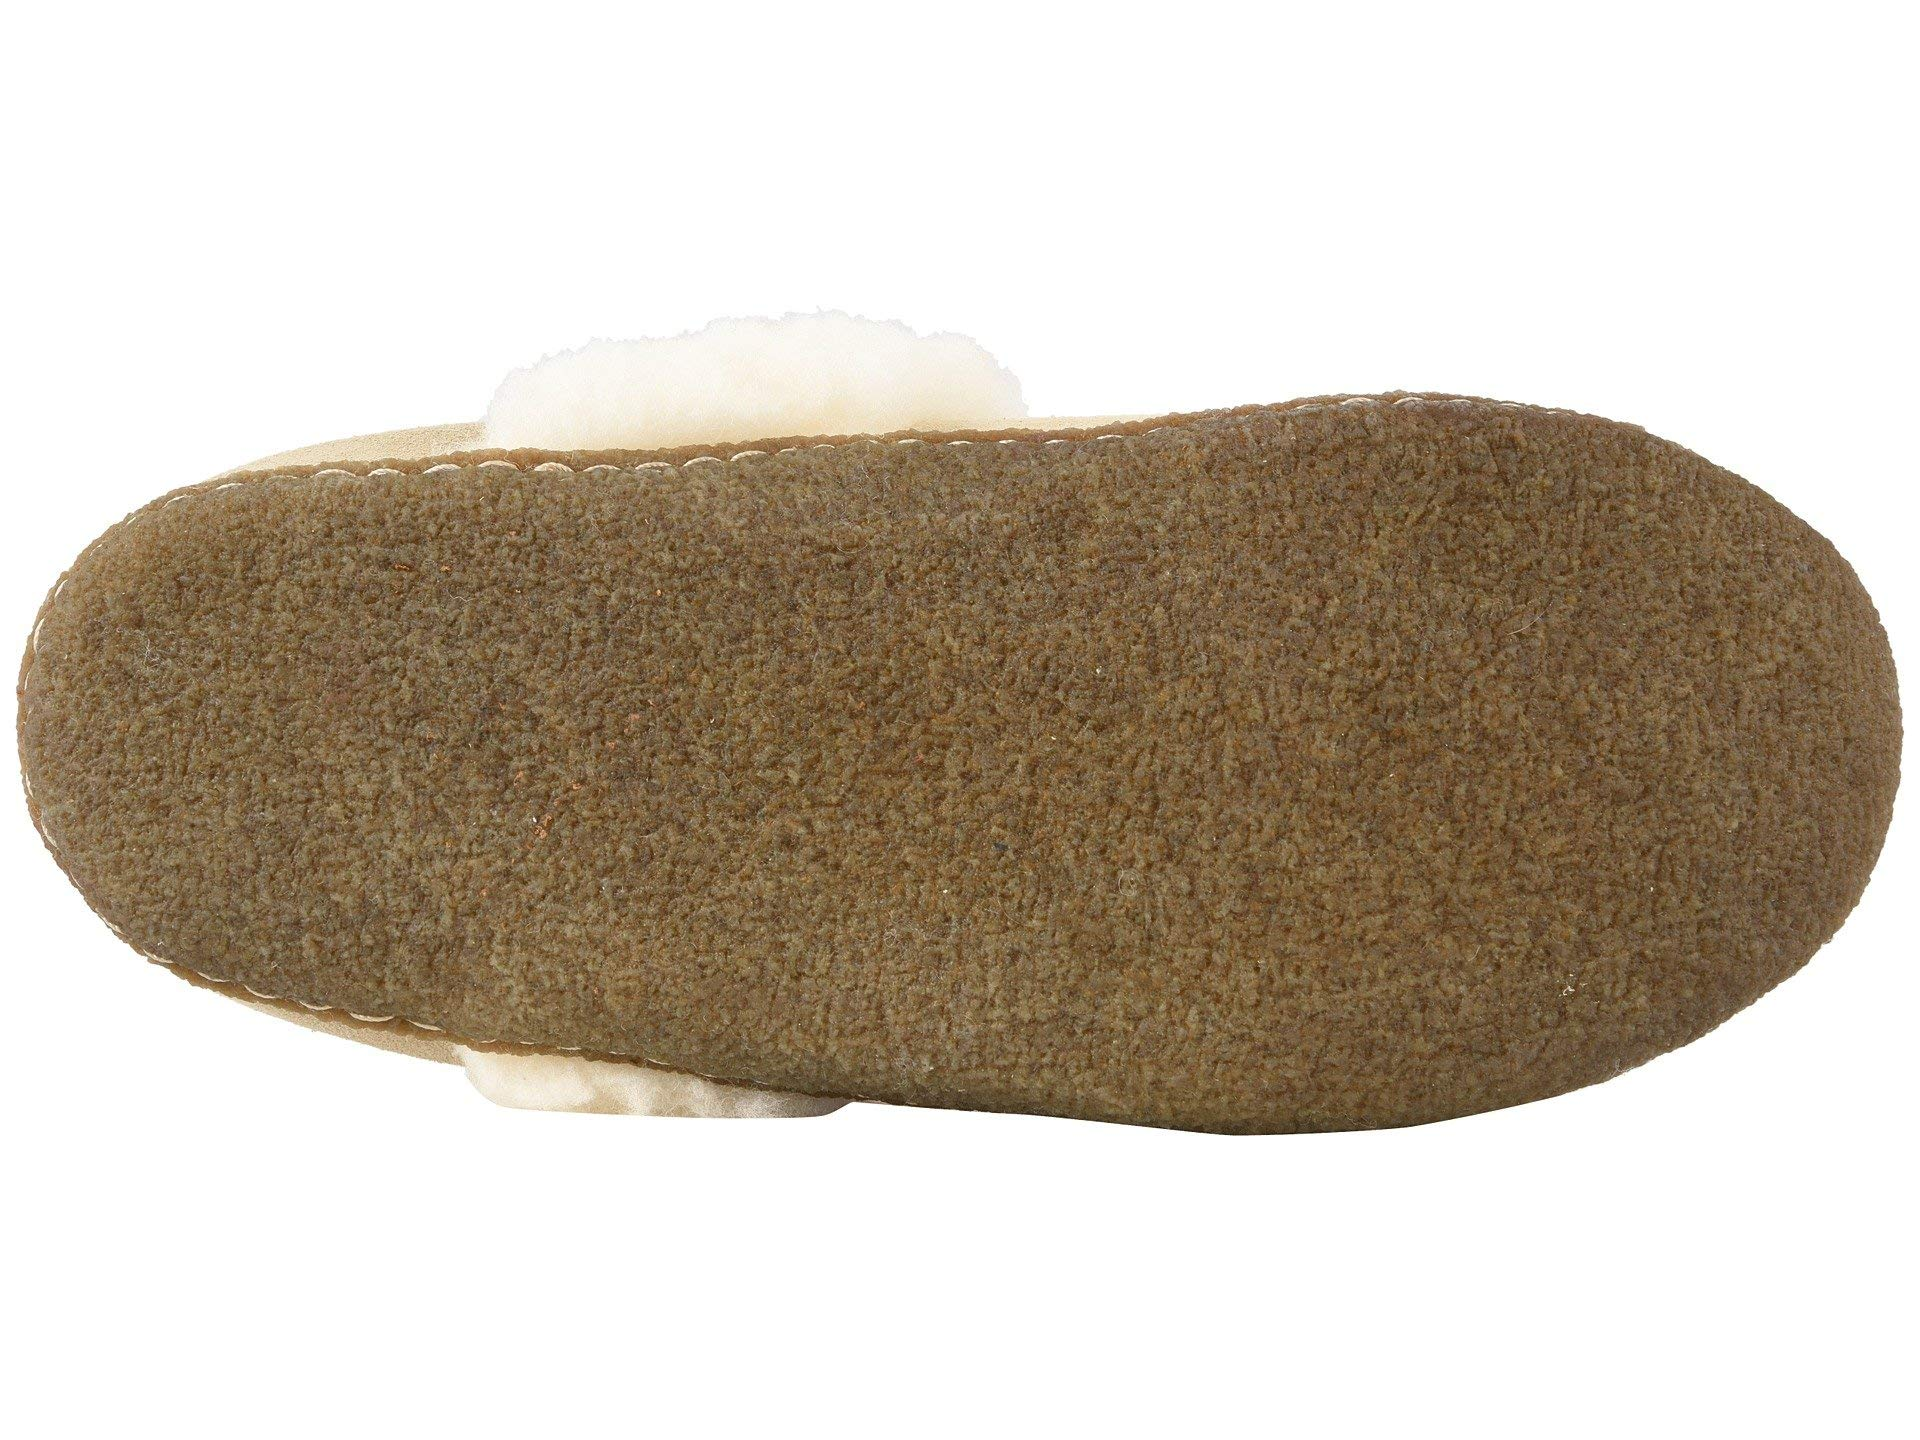other: (744, 569, 1365, 953)
